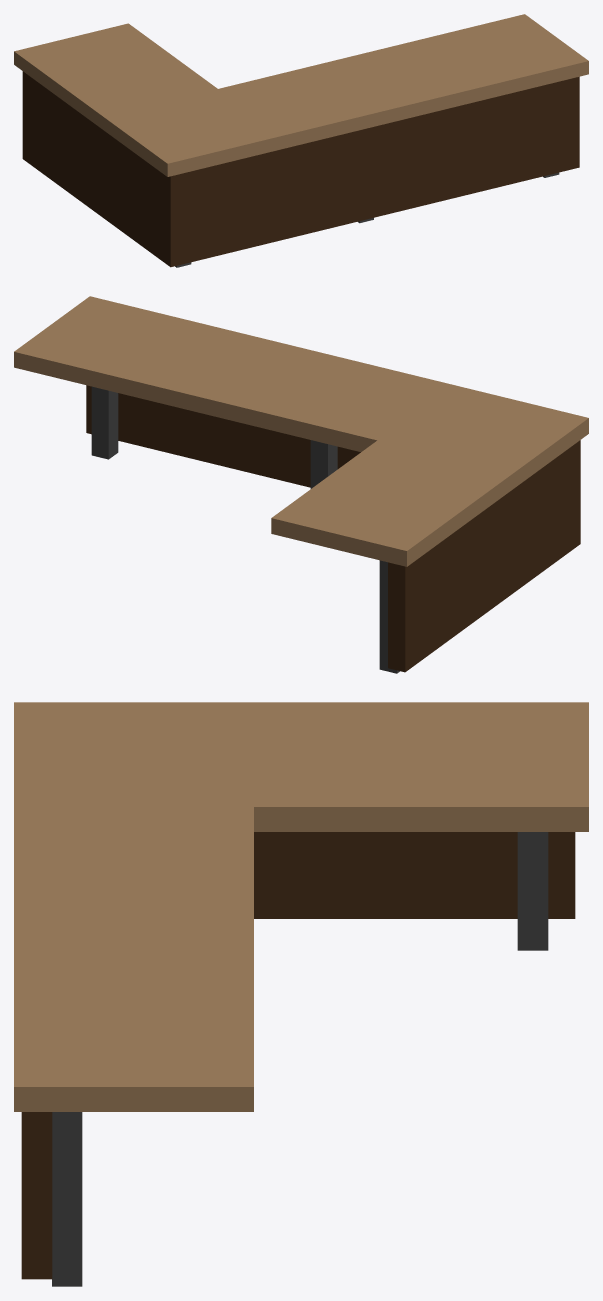
The model's file is Liv desk.fbx.
The picture shows the model from 3 angles, top to bottom: view 1: azimuth 30°, elevation 25°; view 2: azimuth 150°, elevation 25°; view 3: azimuth 270°, elevation 25°; orthographic projection. The views are drawn at different scales.
Visible parts, largest first — view 1: Desk.2; view 2: Desk.2; view 3: Desk.2.
Part boxes in pixels (left/top/right/bottom): Desk.2: left=14, top=14, right=588, bottom=267; Desk.2: left=14, top=296, right=588, bottom=673; Desk.2: left=14, top=702, right=588, bottom=1286.
Size of the model in its own units: 2709 by 714 by 1711.
